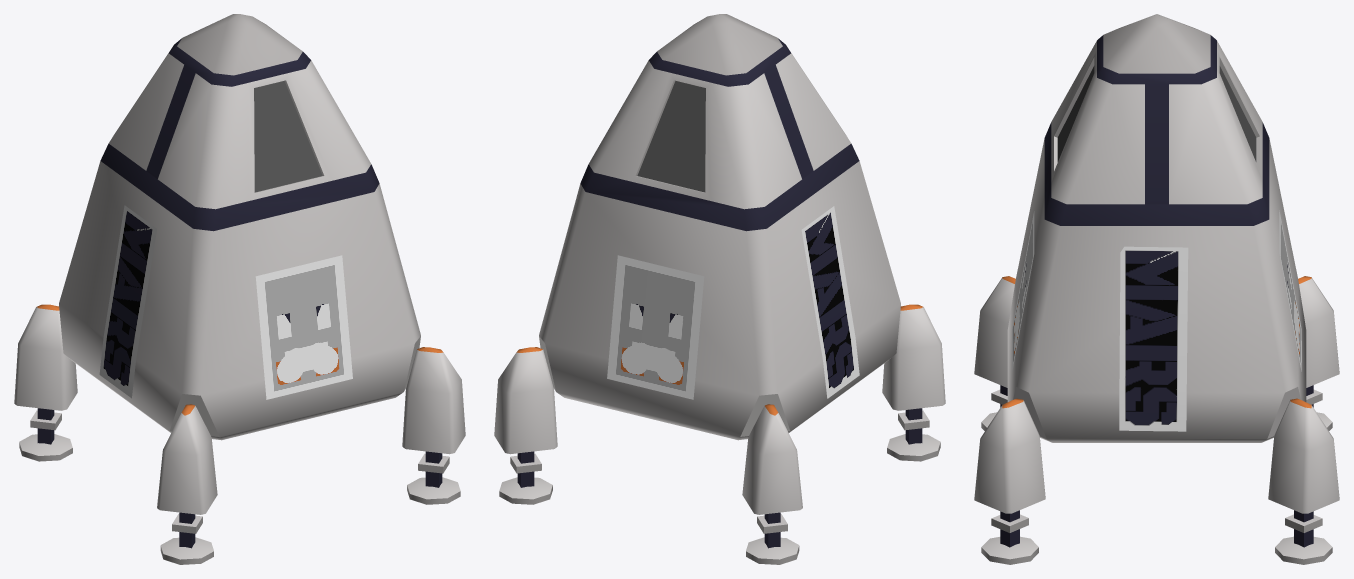
Rendered from rocket.fbx.
The picture shows the model from 3 angles, left to right: view 1: azimuth 30°, elevation 25°; view 2: azimuth 150°, elevation 25°; view 3: azimuth 270°, elevation 25°; orthographic projection. The views are drawn at different scales.
Visible parts, largest first — view 1: rocket; view 2: rocket; view 3: rocket.
Boxes of the visible parts, x1,y1,x2,y2 form: rocket: [14, 14, 465, 564]; rocket: [494, 14, 945, 564]; rocket: [974, 14, 1339, 564].
Size of the model in its own units: 6.79 by 9.71 by 6.76.
